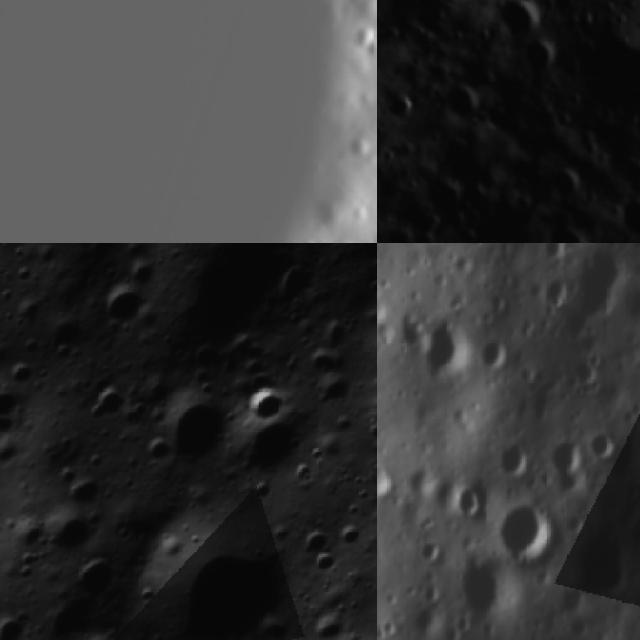crater: (138, 505, 329, 640), (225, 401, 323, 504), (150, 381, 242, 473), (64, 542, 139, 618), (40, 494, 114, 568), (30, 585, 113, 640), (93, 277, 158, 343), (579, 526, 634, 604), (573, 254, 634, 320), (76, 374, 136, 436), (416, 316, 476, 376), (498, 501, 552, 566), (465, 564, 525, 620), (4, 512, 61, 568), (127, 422, 184, 478), (242, 376, 296, 431), (286, 516, 339, 568), (305, 365, 358, 417), (0, 372, 33, 452), (0, 350, 44, 397), (545, 443, 585, 492), (302, 603, 354, 640), (328, 514, 370, 556), (0, 601, 45, 640), (121, 256, 162, 297), (412, 460, 447, 506), (480, 334, 516, 376), (497, 0, 541, 33), (453, 487, 486, 528), (586, 429, 618, 466), (572, 357, 607, 390), (388, 85, 418, 122), (524, 43, 564, 69), (503, 444, 528, 482), (617, 197, 640, 231), (417, 539, 442, 565), (543, 281, 567, 308), (377, 459, 391, 504), (541, 243, 568, 265), (574, 615, 588, 640)
